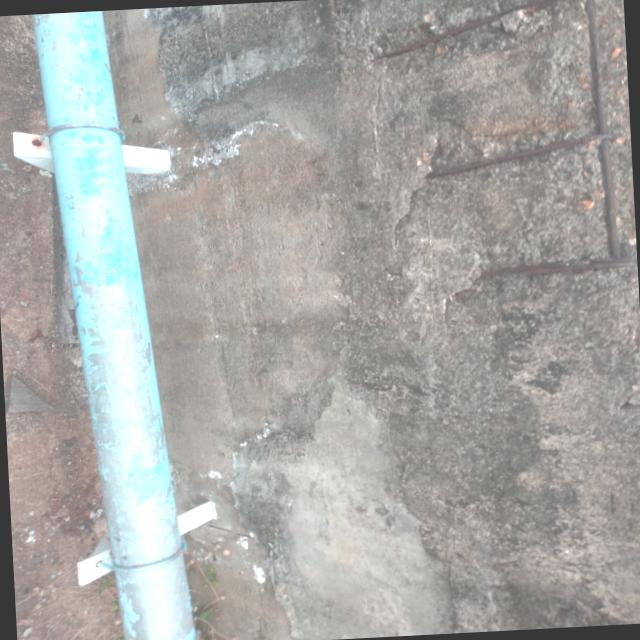gas: (28, 11, 194, 640)
